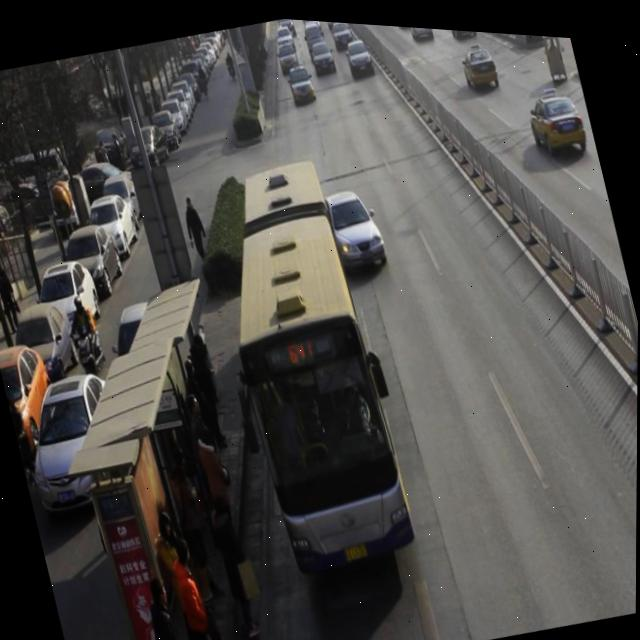car: (322, 175, 391, 272), (523, 75, 589, 154), (459, 35, 501, 88), (343, 31, 375, 75), (286, 58, 317, 103), (309, 34, 337, 73), (330, 17, 356, 49), (275, 36, 299, 69), (444, 23, 478, 36), (406, 21, 434, 36)
truck: (301, 16, 329, 58)
van: (197, 145, 420, 571)
